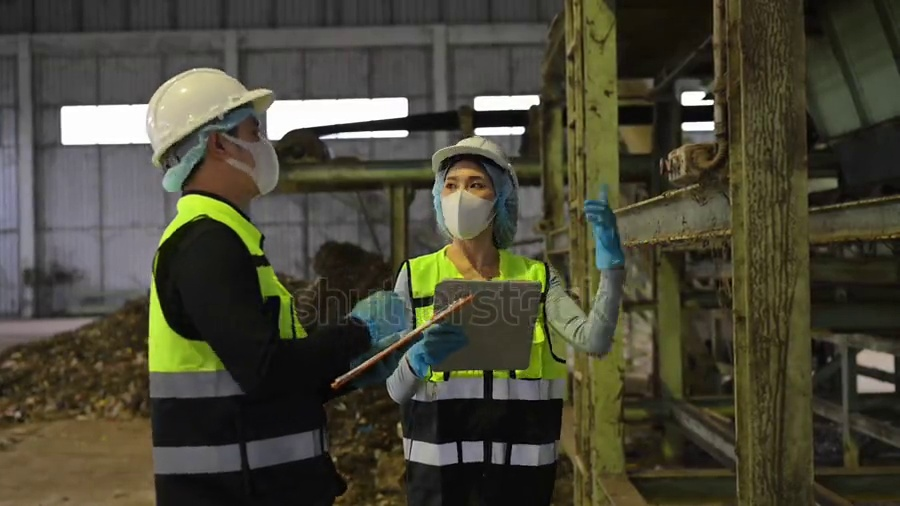helmet: (144, 67, 276, 168), (432, 134, 514, 174)
mask: (440, 191, 497, 240), (241, 139, 281, 197)
person: (146, 68, 413, 506), (382, 134, 626, 506)
